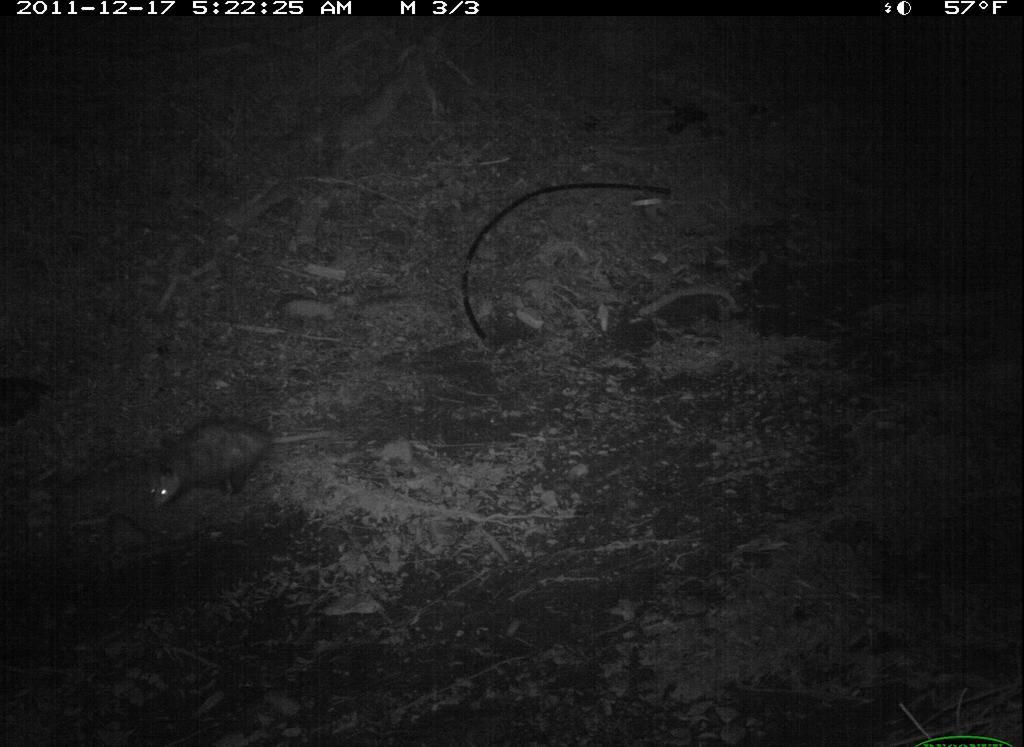opossum: (139, 410, 370, 521)
